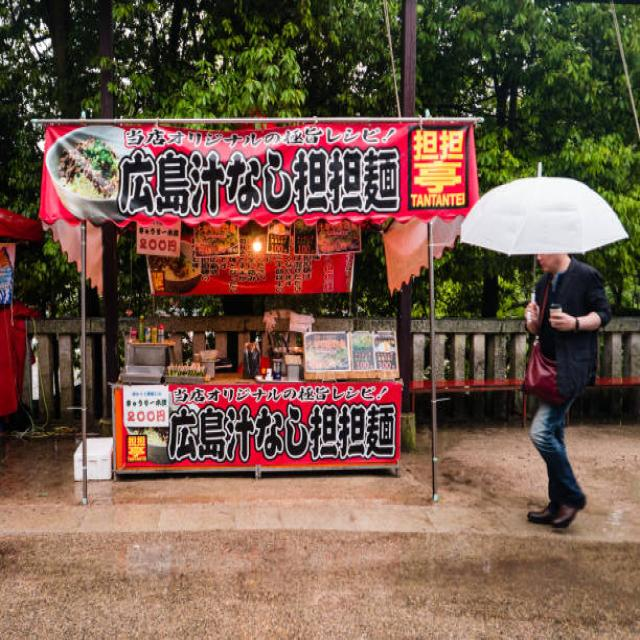Emperan: (21, 105, 490, 532)
